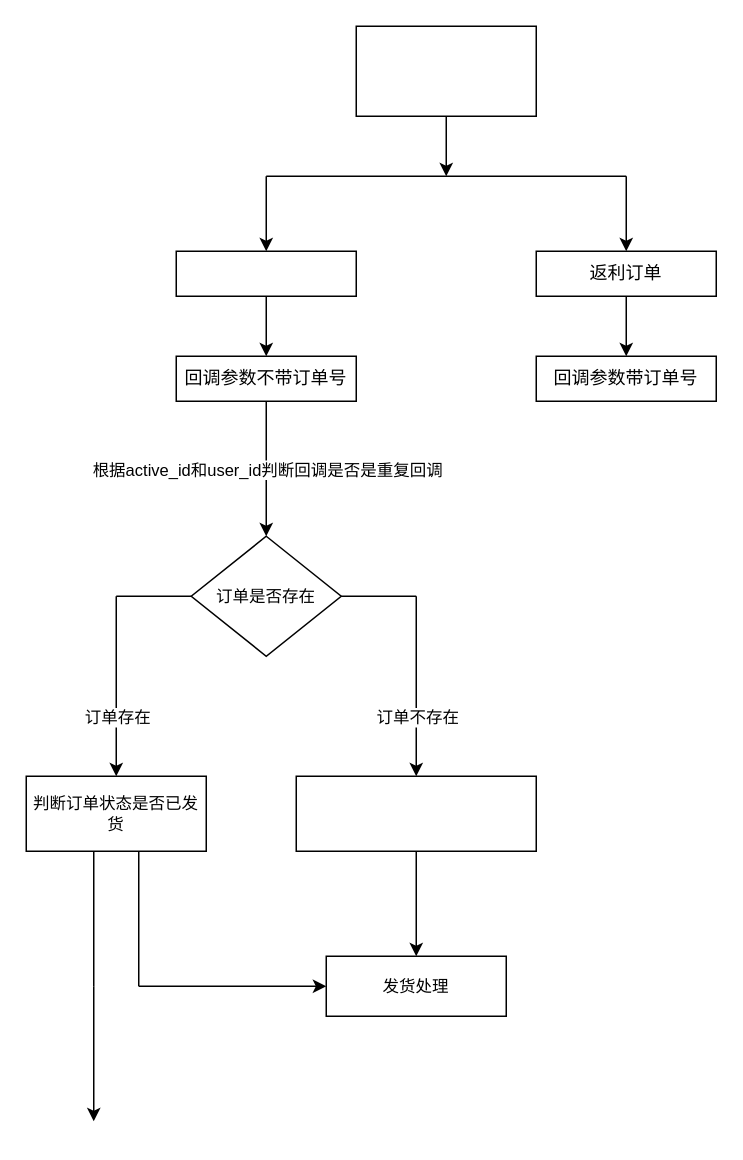
The diagram is 743 pixels wide and 1160 high, and some of its shapes have lost their labels. Each missing label, with the box of its shape:
创建一条新的订单和一条新的道具记录表: (295, 775, 536, 851)
客户端下单: (355, 25, 536, 116)
普通订单: (175, 250, 356, 296)
